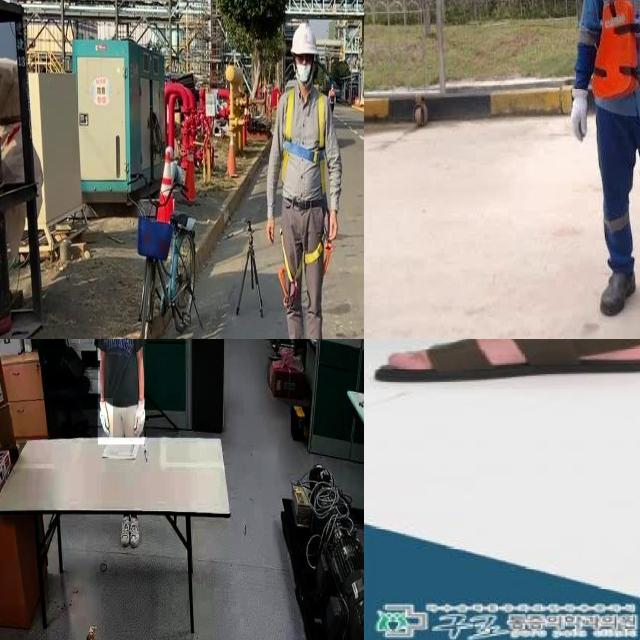Harness: (282, 88, 327, 194), (278, 232, 333, 308)
Sandals: (373, 339, 640, 389)
boots: (595, 266, 637, 316)
hand_glove: (97, 398, 113, 439), (132, 400, 148, 441)
person: (557, 0, 640, 339), (98, 339, 145, 445)
shoes: (127, 514, 141, 550), (118, 515, 130, 550)
vest: (587, 0, 640, 102)
